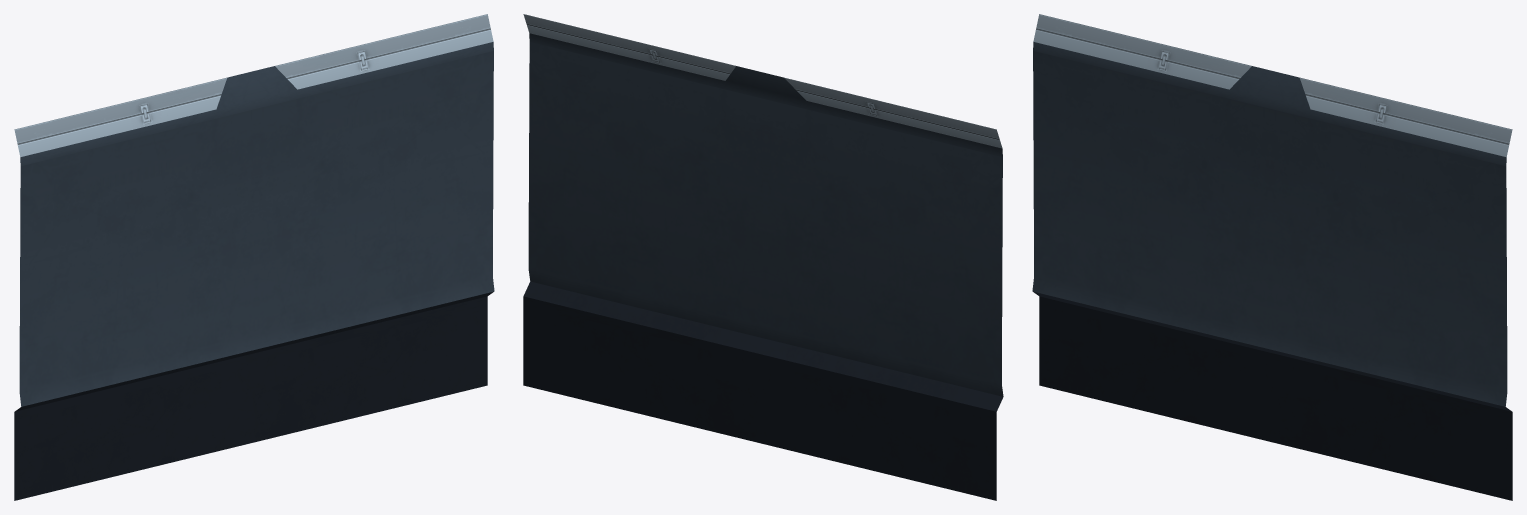
Rendered from FoundryWall.glb.
3 renders of one model, left to right at view 1: azimuth 30°, elevation 25°; view 2: azimuth 150°, elevation 25°; view 3: azimuth 330°, elevation 25°, orthographic.
Parts seen in each view (by area): view 1: RF_FoundryWall_01_DarkMetal, RF_FoundryWall_02_PanelPlastic, RF_FoundryWall_00_SecondaryMetal; view 2: RF_FoundryWall_01_DarkMetal, RF_FoundryWall_02_PanelPlastic, RF_FoundryWall_00_SecondaryMetal; view 3: RF_FoundryWall_01_DarkMetal, RF_FoundryWall_02_PanelPlastic, RF_FoundryWall_00_SecondaryMetal.
Part boxes in pixels (x1=…): RF_FoundryWall_01_DarkMetal: x1=19, y1=42, x2=494, y2=406; RF_FoundryWall_02_PanelPlastic: x1=14, y1=291, x2=493, y2=500; RF_FoundryWall_00_SecondaryMetal: x1=14, y1=14, x2=493, y2=156; RF_FoundryWall_01_DarkMetal: x1=528, y1=33, x2=1003, y2=396; RF_FoundryWall_02_PanelPlastic: x1=523, y1=281, x2=1003, y2=500; RF_FoundryWall_00_SecondaryMetal: x1=523, y1=14, x2=1002, y2=148; RF_FoundryWall_01_DarkMetal: x1=1032, y1=42, x2=1507, y2=406; RF_FoundryWall_02_PanelPlastic: x1=1033, y1=291, x2=1512, y2=500; RF_FoundryWall_00_SecondaryMetal: x1=1033, y1=14, x2=1512, y2=156.
Bounding box in the file's own units: 9.6 × 7.2 × 0.24.
3 materials, 3 textured.
